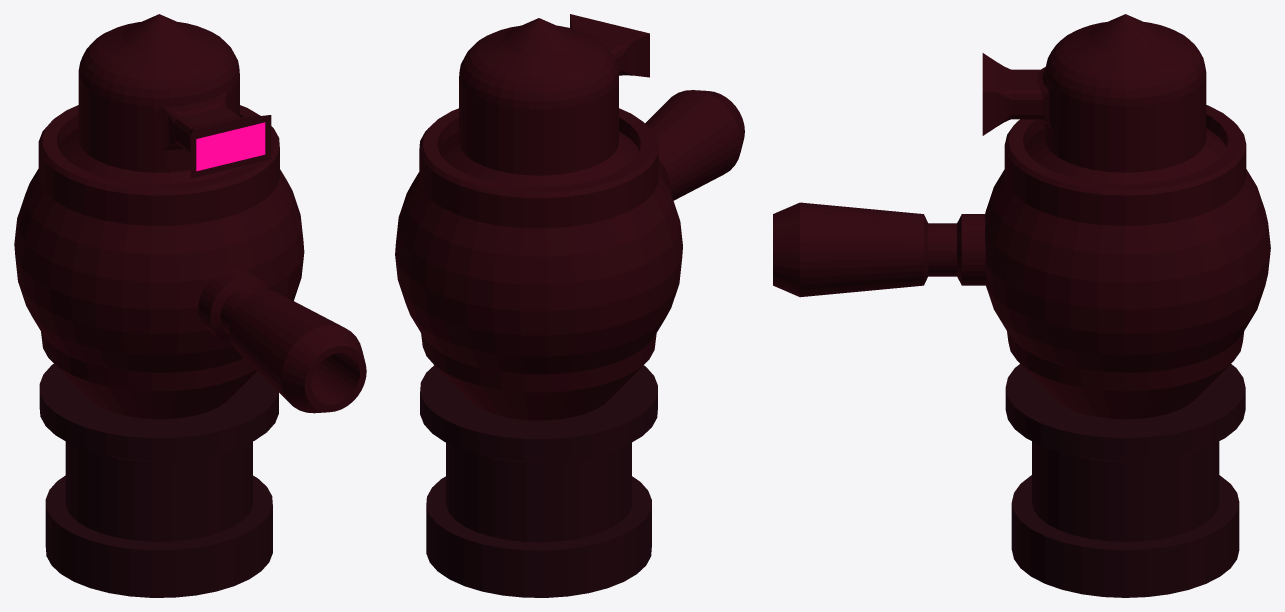
File: TestTurret.fbx
The picture shows the model from 3 angles, left to right: view 1: azimuth 30°, elevation 25°; view 2: azimuth 150°, elevation 25°; view 3: azimuth 270°, elevation 25°; orthographic projection.
Visible parts, largest first — view 1: Turret; view 2: Turret; view 3: Turret.
Part boxes in pixels (left/top/right/bottom): Turret: left=14, top=14, right=366, bottom=597; Turret: left=395, top=14, right=744, bottom=597; Turret: left=773, top=14, right=1270, bottom=597.
Size of the model in its own units: 248 by 425 by 505.
